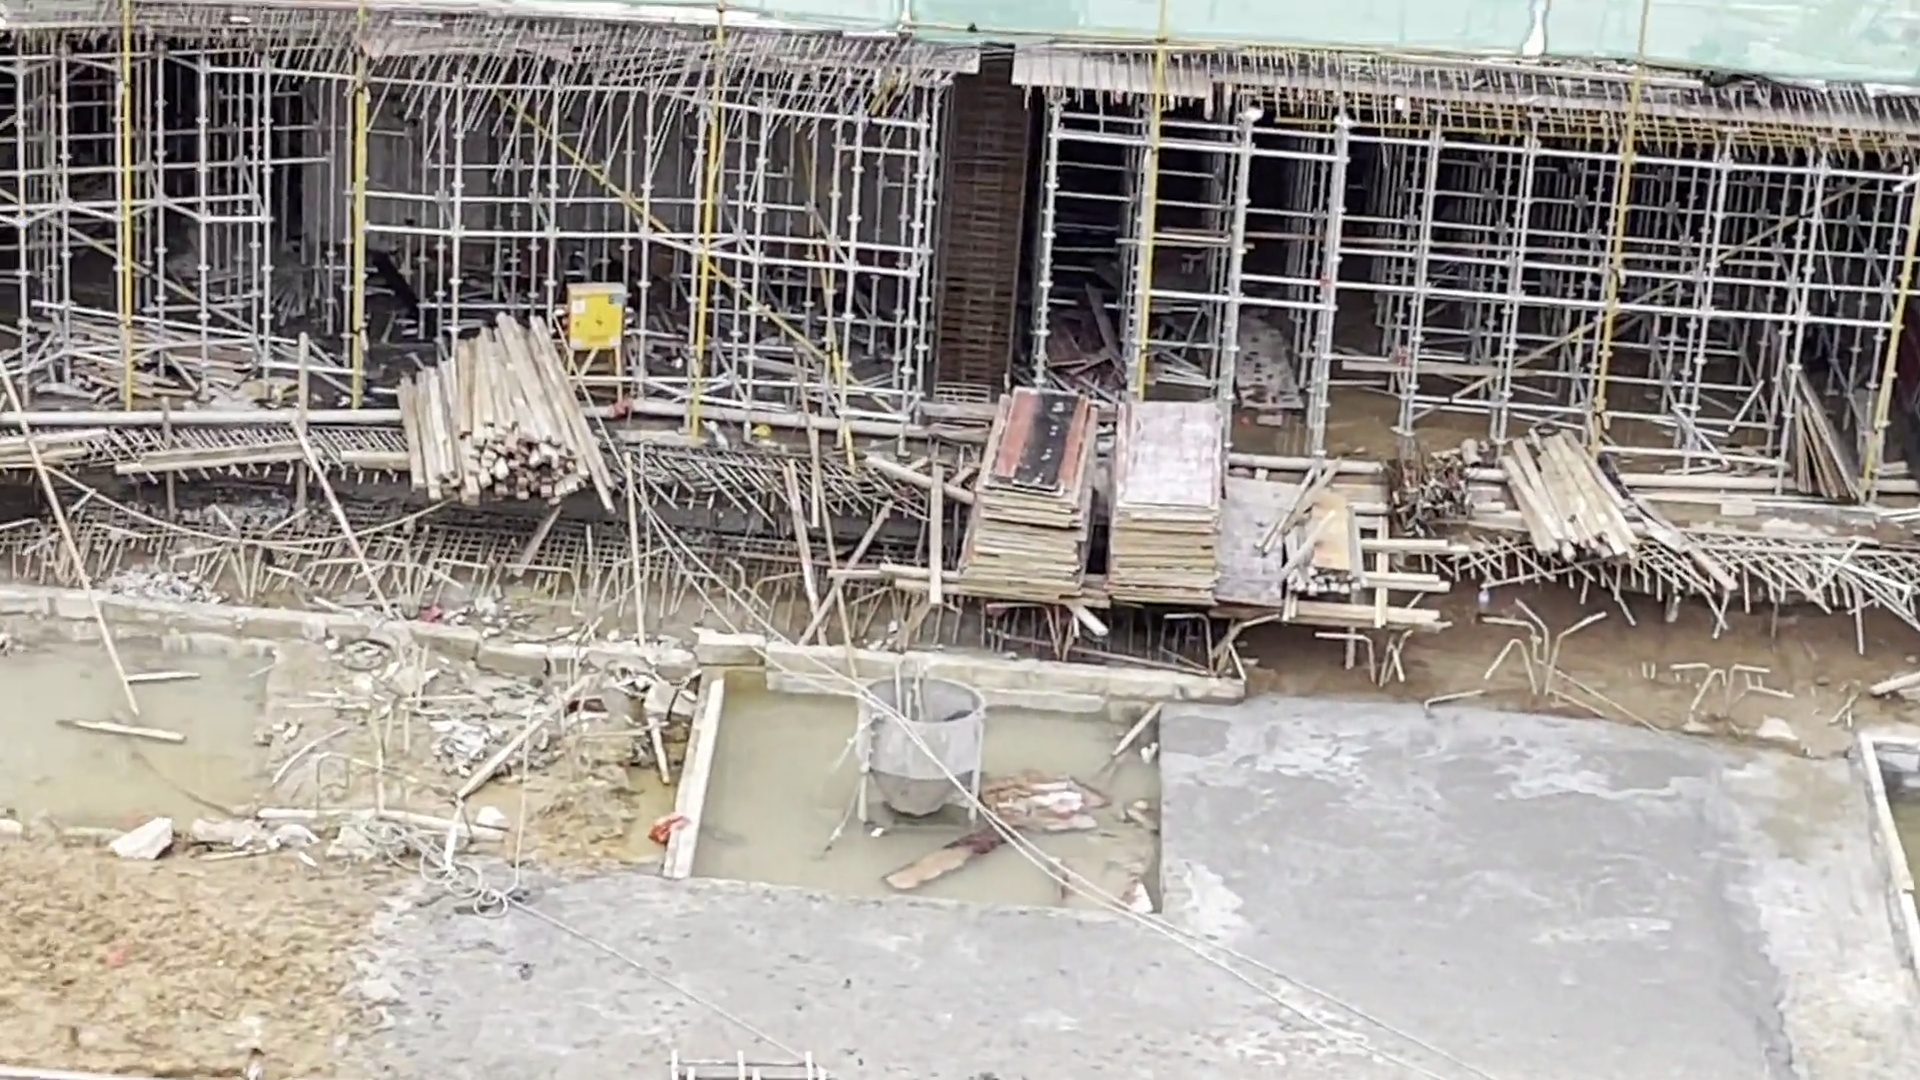board: (963, 378, 1238, 608)
ebox: (564, 277, 628, 353)
wood: (404, 338, 626, 513), (1506, 426, 1642, 567)
